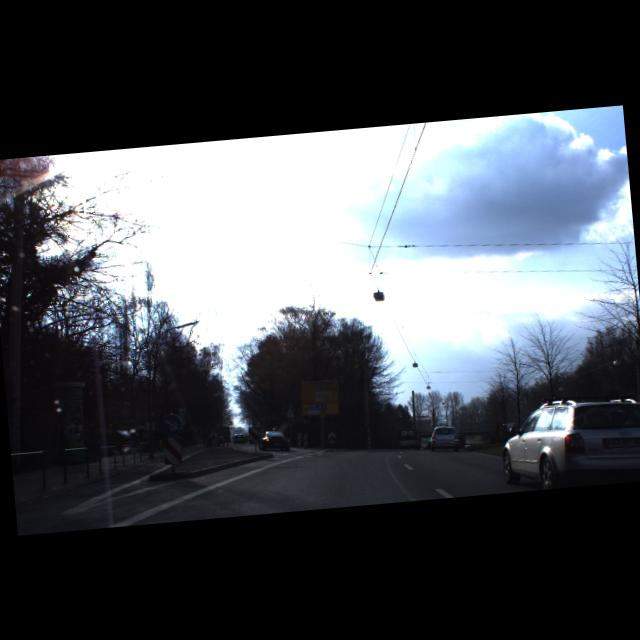mandatory: (160, 411, 183, 436)
